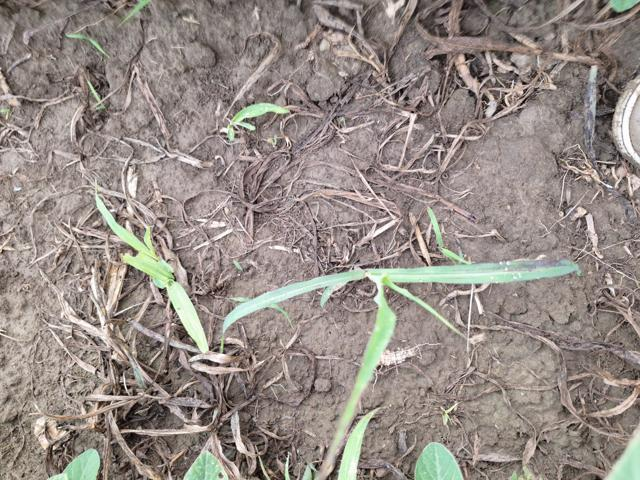bad weed: (222, 246, 598, 475), (83, 189, 218, 362), (216, 92, 296, 148)
